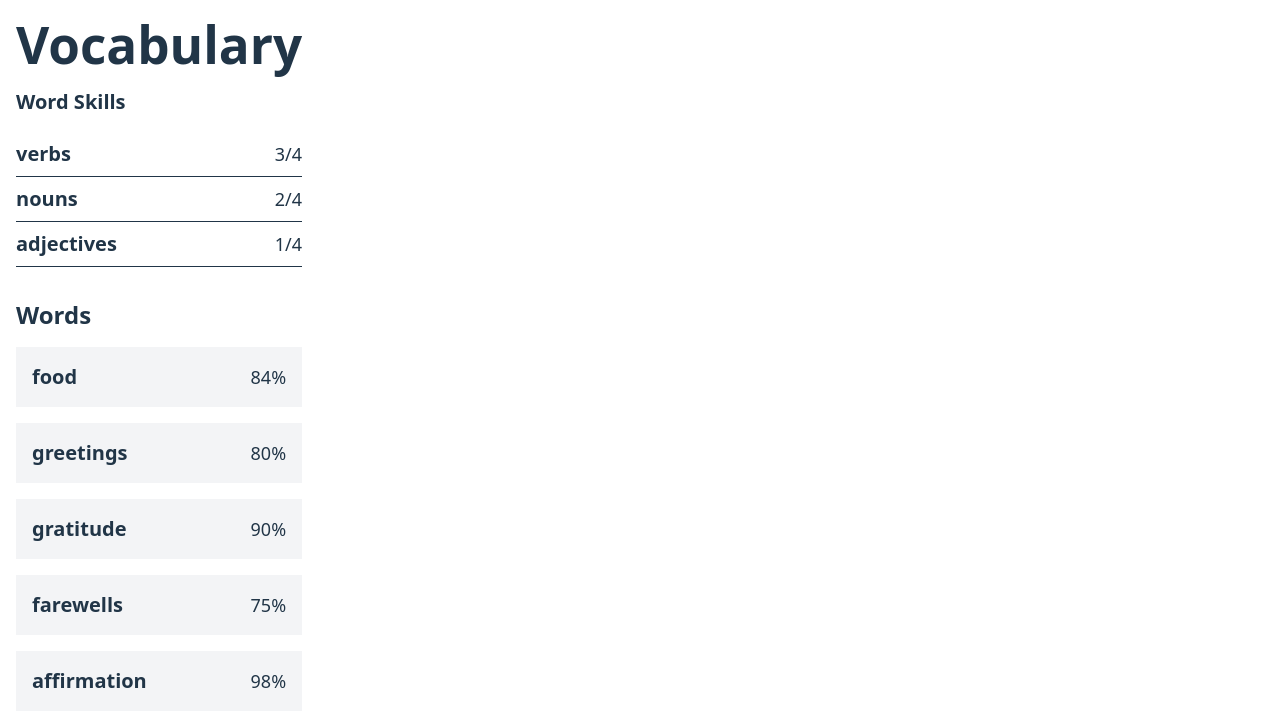
Test case: Vocabulary Page › Authenticated user › Happy Path › shows a modal with rules when a subcategory is clicked
What coordinates should you click on to do the following:
click the element with test id "word-skill" showing "verbs 3/4"
I would click on:
 (159, 155)
Its box is [16,132,302,177].
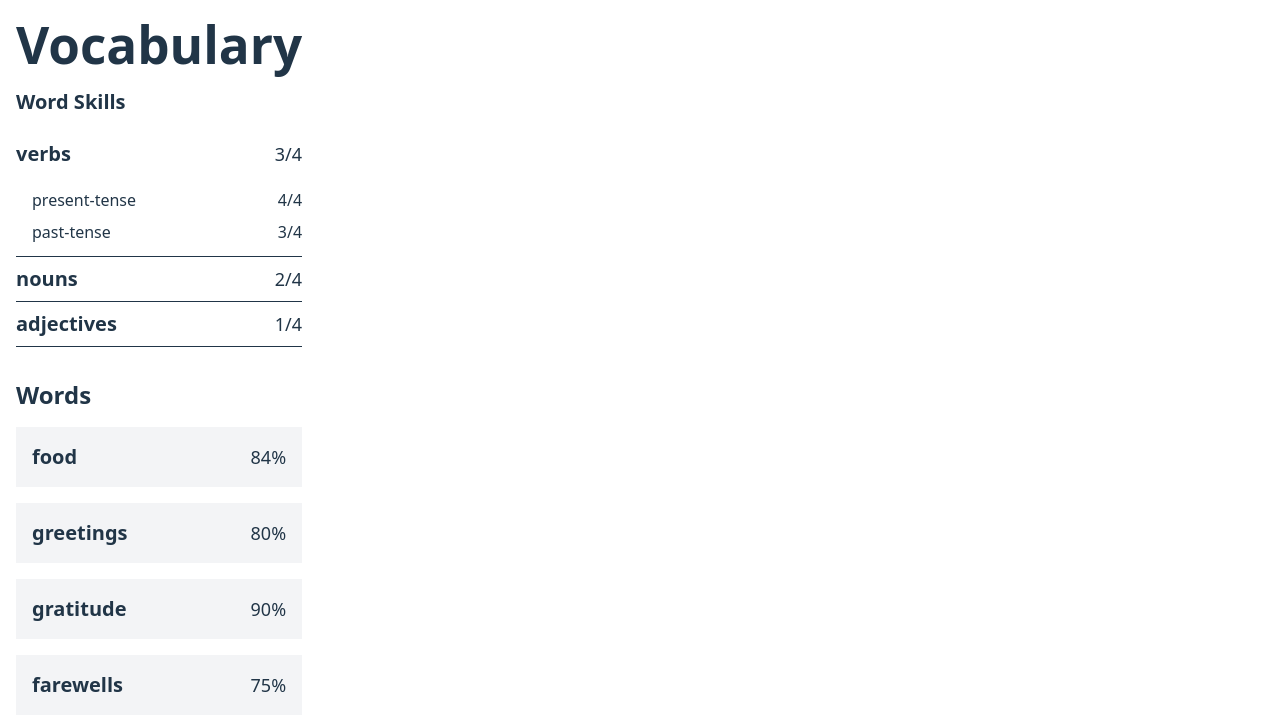
Note: From the fixture, the first subcategory of the first skill is 'present-tense'
What coordinates should you click on to do the following:
click the element with test id "subcategory-present-tense"
I would click on:
 (84, 200)
Its box is [32,184,302,216].
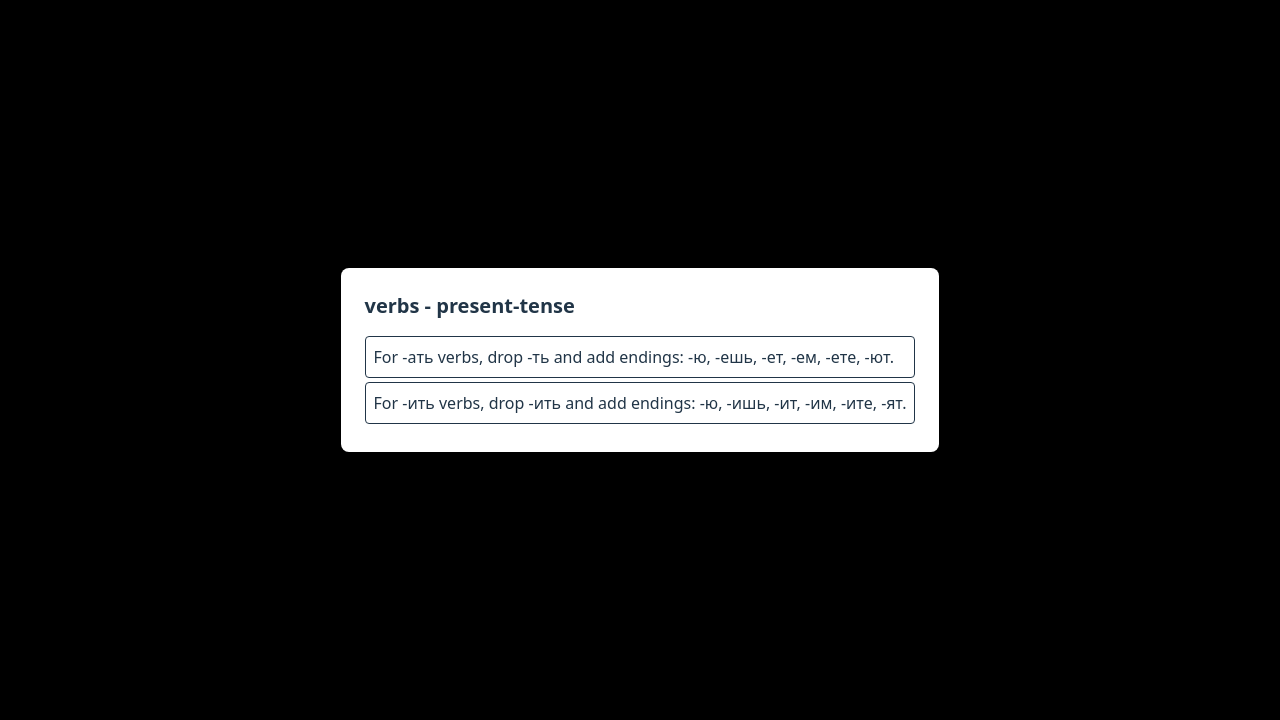
Expected: the element with test id "modal" is shown
Expected: the element with test id "grammar-rules" is shown, [365,336,916,424]
Expected: the number of list items with test id "rule-item" is 2, [364,336,916,378]; [364,382,916,424]
